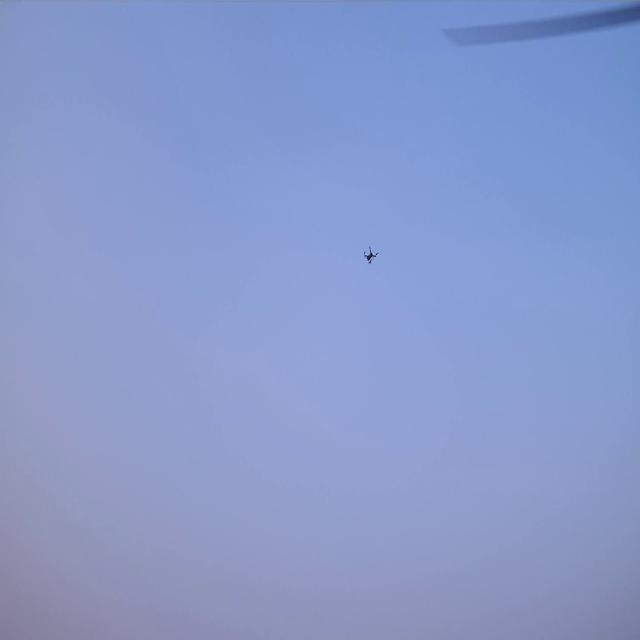UAV: (364, 248, 377, 262)
